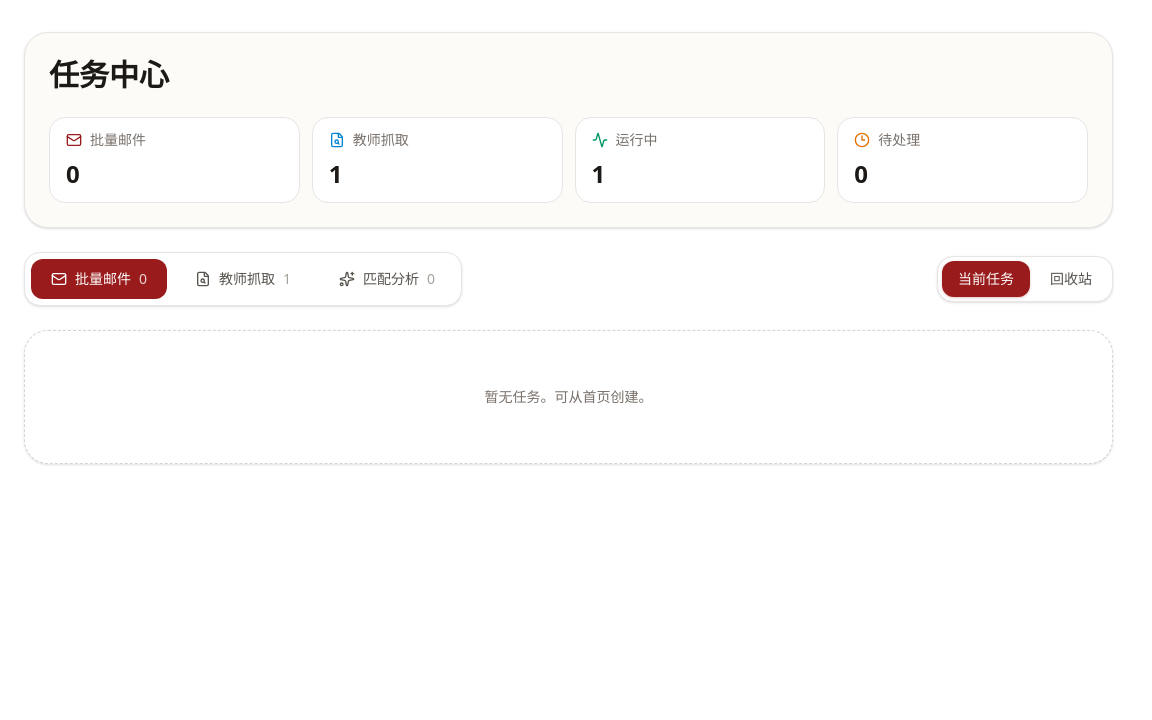
it: TasksPage crawler jobs tab › shows crawl job cards after switching to the crawler tab
Click the button "教师抓取 1". click: (243, 279)
box: [175,259,311,299]
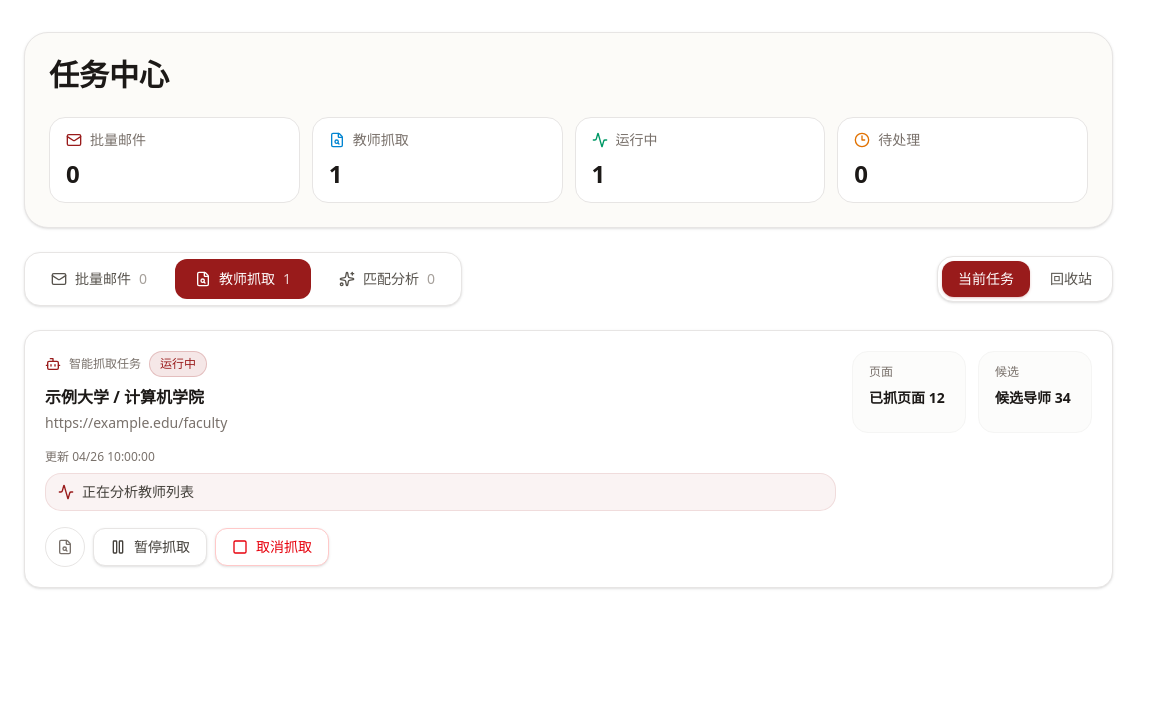
Check: the heading "示例大学 / 计算机学院" is shown, box [45,386,204,408]
Check: the text "https://example.edu/faculty" is shown, box [45,413,227,432]
Check: the text "已抓页面 12" is shown, box [869,388,949,408]
